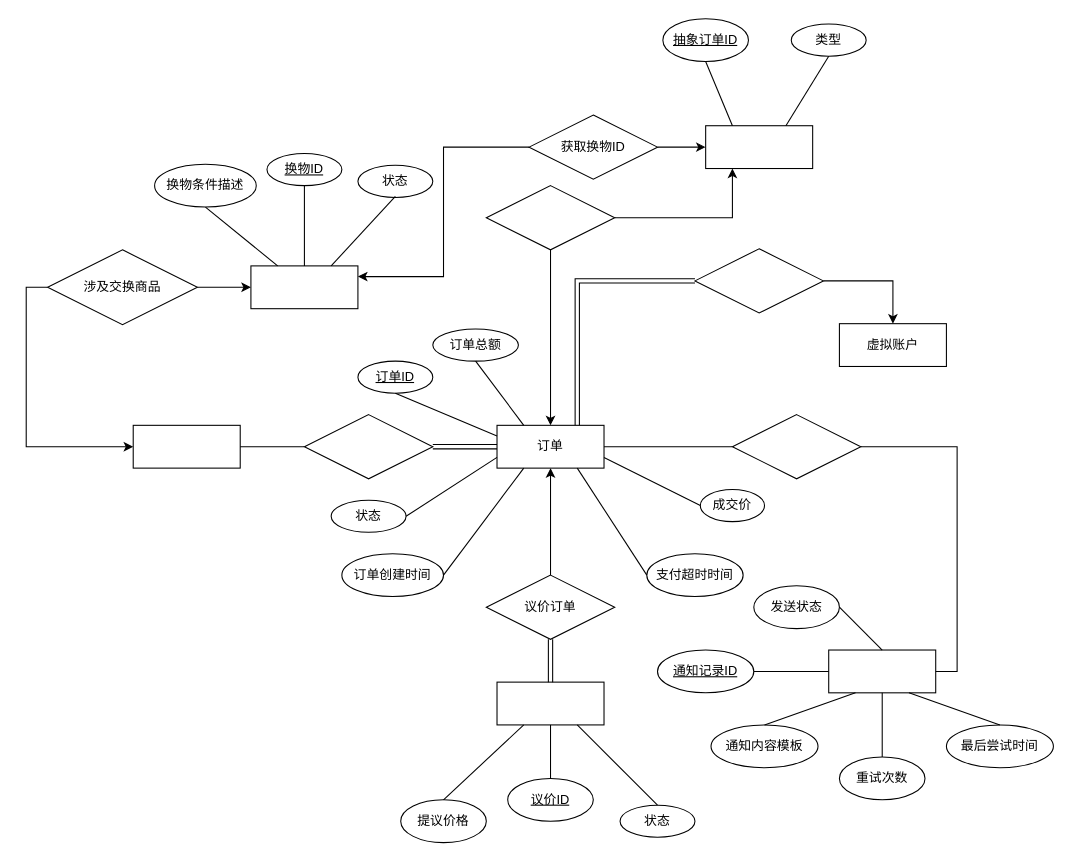
This 1072x861 diagram has some shape labels left out. Here are the shapes that lost their labels. From the top down, the box of each, then its label:
(705, 125, 813, 169): 抽象订单
(485, 185, 615, 250): 获取订单ID
(250, 265, 358, 309): 换物
(694, 248, 823, 313): 支付
(132, 424, 240, 468): 商品
(303, 414, 433, 479): 关联商品
(731, 414, 861, 479): 订单状态变更
(828, 649, 936, 693): 通知信息
(496, 681, 604, 725): 议价
